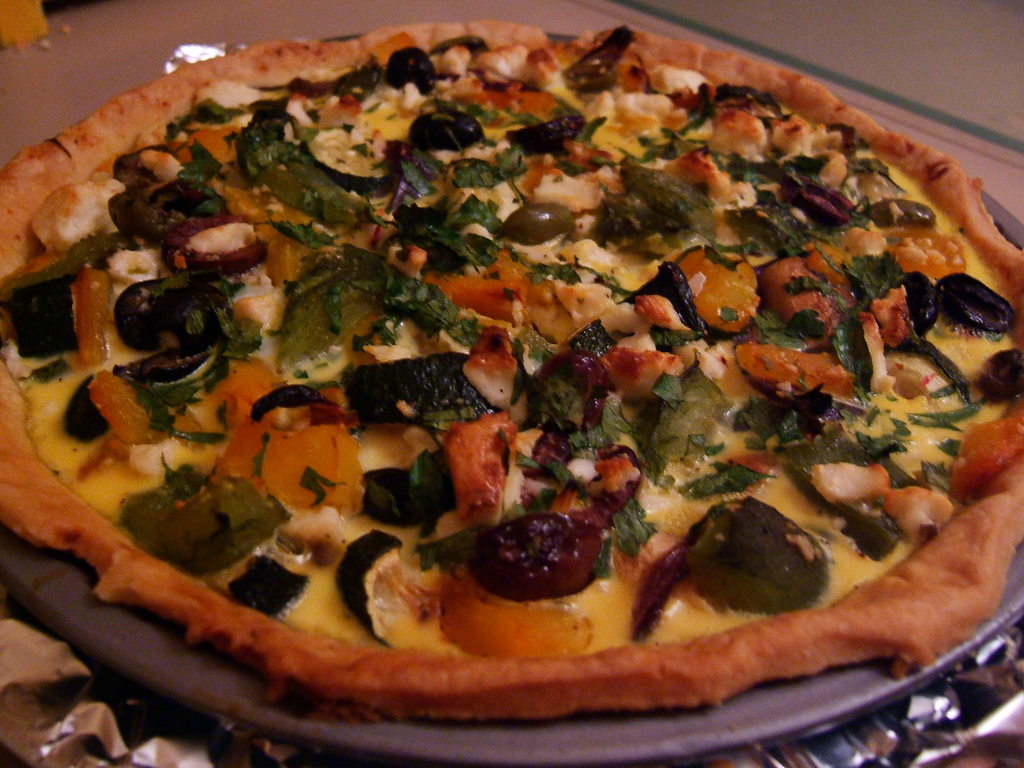Pizza: (0, 19, 1023, 722)
